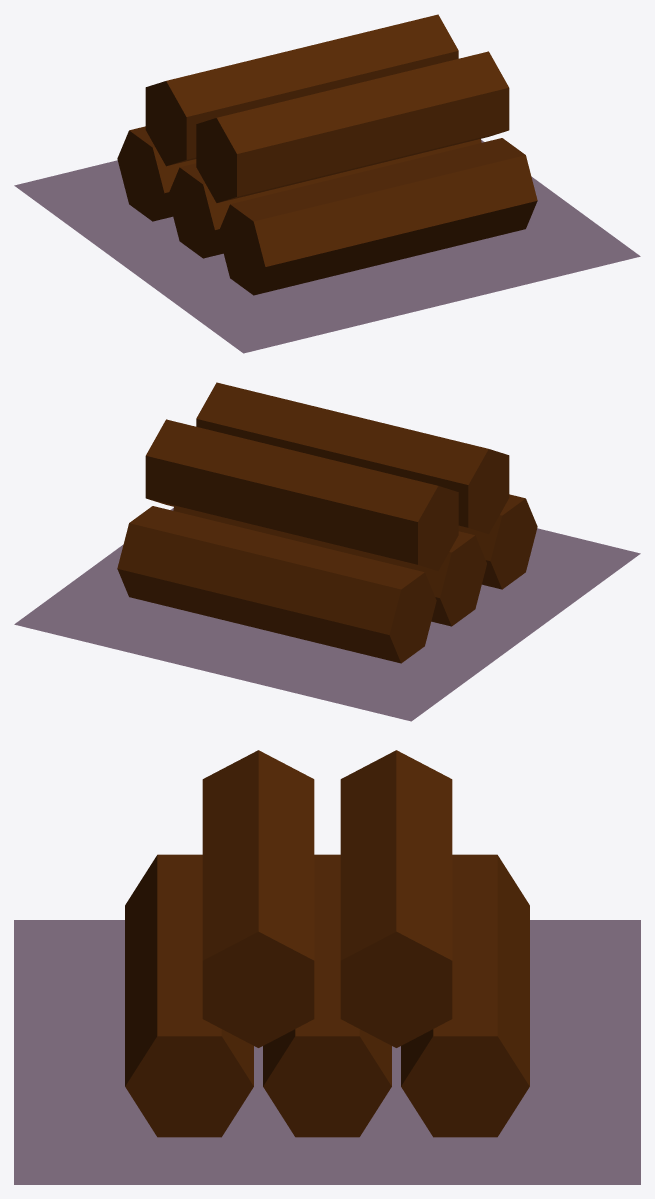
The model's file is No_Edge_Roof.obj.
3 renders of one model, top to bottom at view 1: azimuth 30°, elevation 25°; view 2: azimuth 150°, elevation 25°; view 3: azimuth 270°, elevation 25°, orthographic. The views are drawn at different scales.
Visible parts, largest first — view 1: No_Edge_Roof; view 2: No_Edge_Roof; view 3: No_Edge_Roof.
Boxes of the visible parts, <box> form: No_Edge_Roof: <box>14,14,640,353</box>; No_Edge_Roof: <box>14,382,640,721</box>; No_Edge_Roof: <box>14,750,640,1184</box>.
Size of the model in its own units: 1 by 0.3724 by 1.
